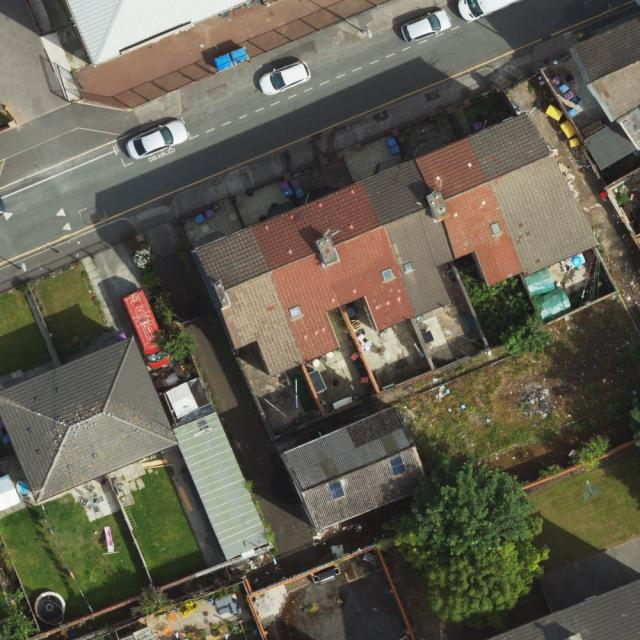roof: (192, 114, 598, 380), (0, 334, 179, 501), (285, 409, 427, 531), (64, 0, 254, 69)
skylight: (325, 479, 348, 503), (388, 453, 410, 478), (285, 302, 307, 323), (379, 265, 399, 288), (487, 217, 507, 238), (400, 256, 418, 276)
